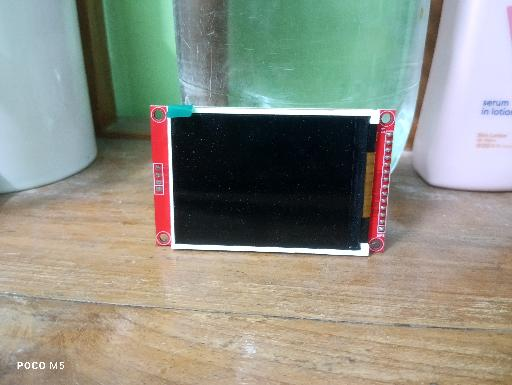Display: (148, 102, 397, 259)
